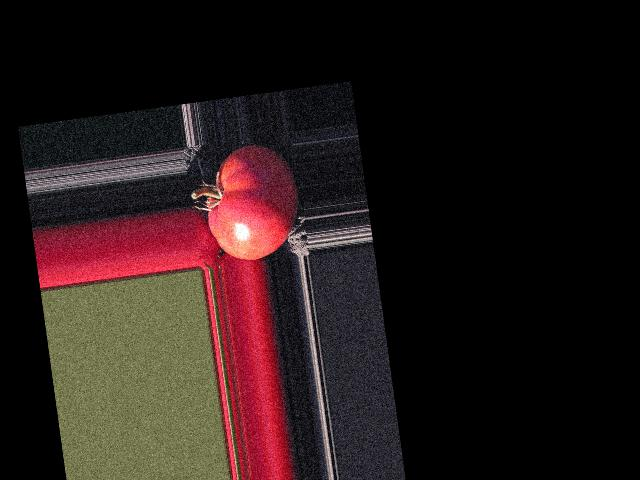tomato: (199, 139, 306, 264)
